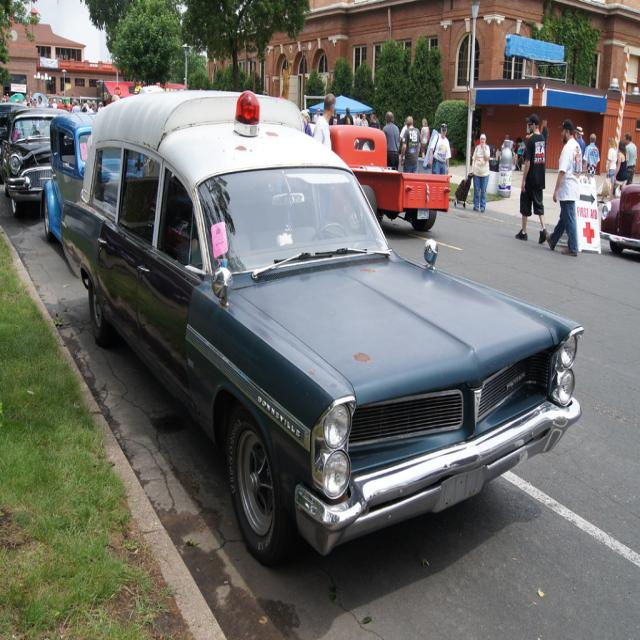car: (55, 81, 587, 558)
